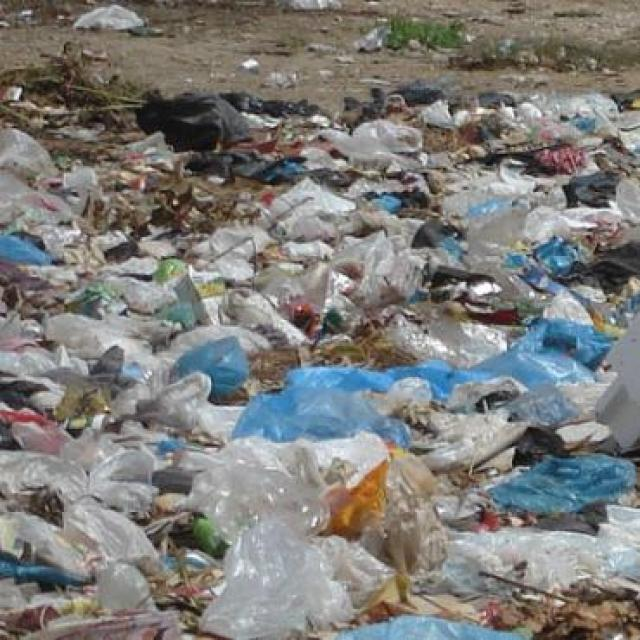heap: (2, 1, 640, 640)
plastic_bag: (188, 435, 407, 640)
